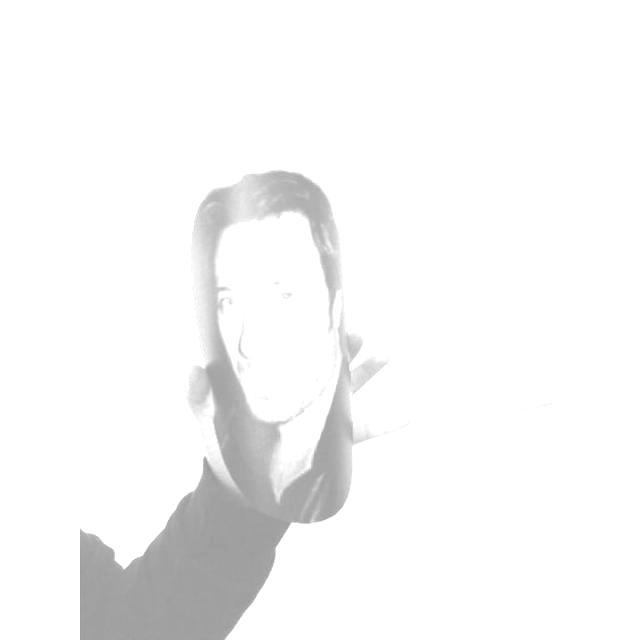fake: (174, 145, 376, 528)
